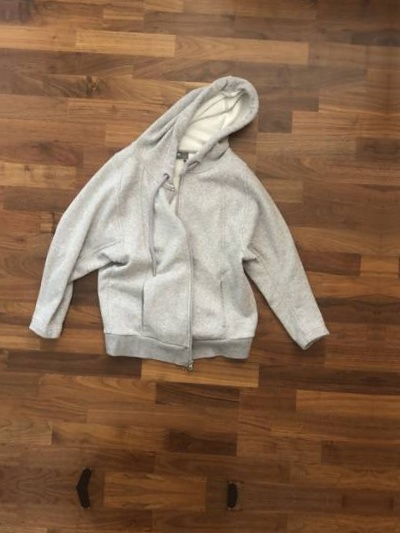Hoodie: (0, 26, 376, 394), (389, 46, 400, 414), (0, 8, 7, 376)
